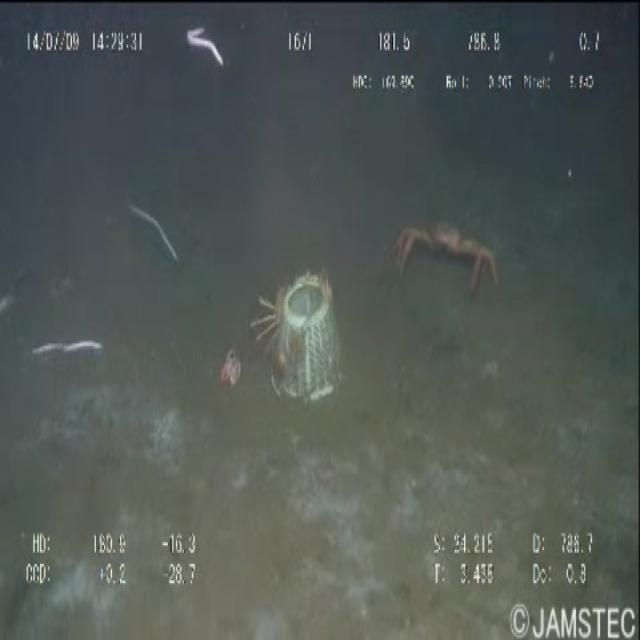Cutlery: (260, 274, 342, 413)
Litter: (213, 334, 248, 404)
